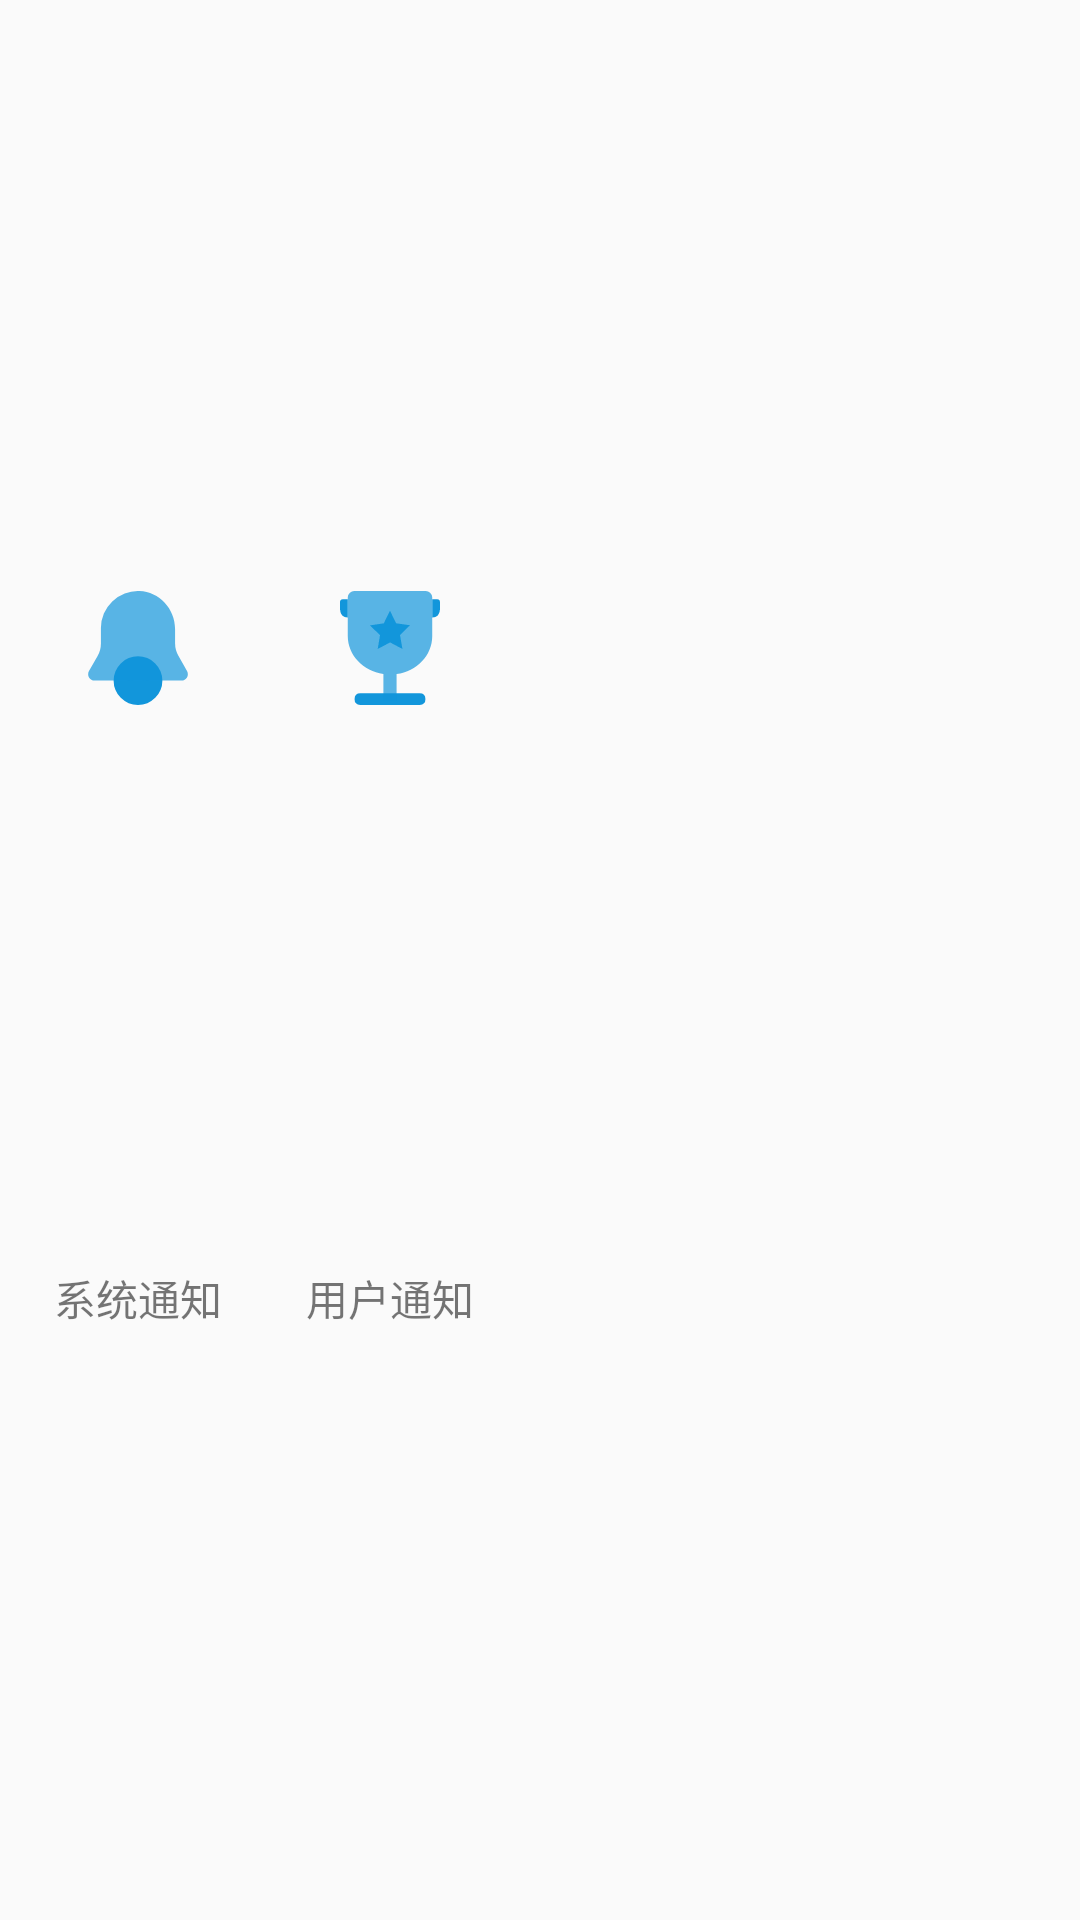

Screen size 1080 x 1920. Icon name, then its box in pixels as (x1, y1, x2, y2):
message system notification: (88, 591, 188, 705)
